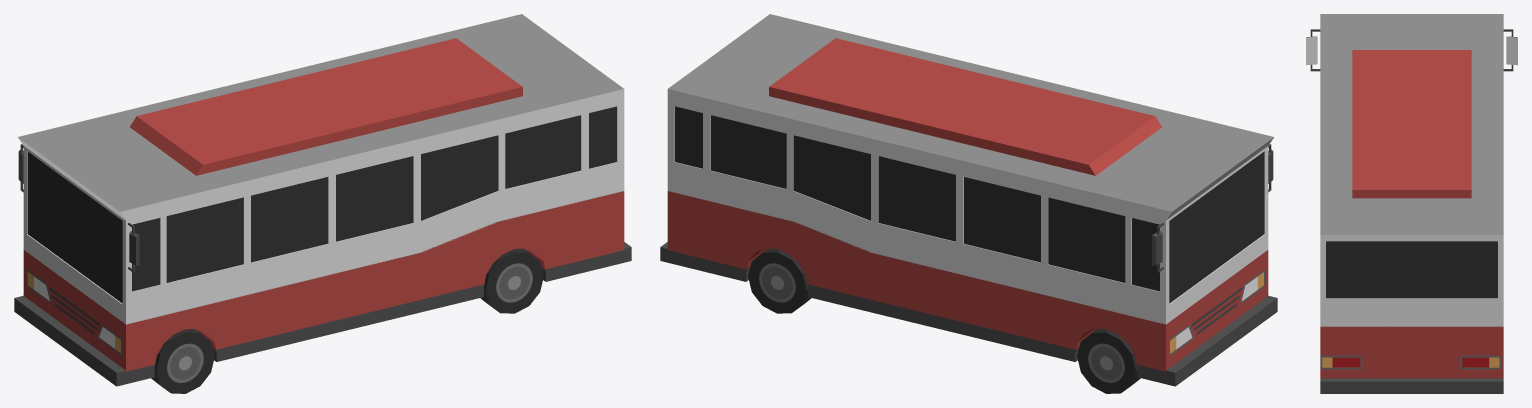
Rendered from bus_3.glb.
3 renders of one model, left to right at view 1: azimuth 30°, elevation 25°; view 2: azimuth 150°, elevation 25°; view 3: azimuth 270°, elevation 25°, orthographic. The views are drawn at different scales.
Visible parts, largest first — view 1: Vehicle_Bus_color03.007; view 2: Vehicle_Bus_color03.007; view 3: Vehicle_Bus_color03.007.
Part boxes in pixels (x1,y1,x2,y2): Vehicle_Bus_color03.007: (14, 14, 631, 393); Vehicle_Bus_color03.007: (660, 14, 1277, 393); Vehicle_Bus_color03.007: (1306, 14, 1517, 393).
Size of the model in its own units: 9.3 by 3.58 by 3.69.
Materials: 1 (1 with a texture image).
